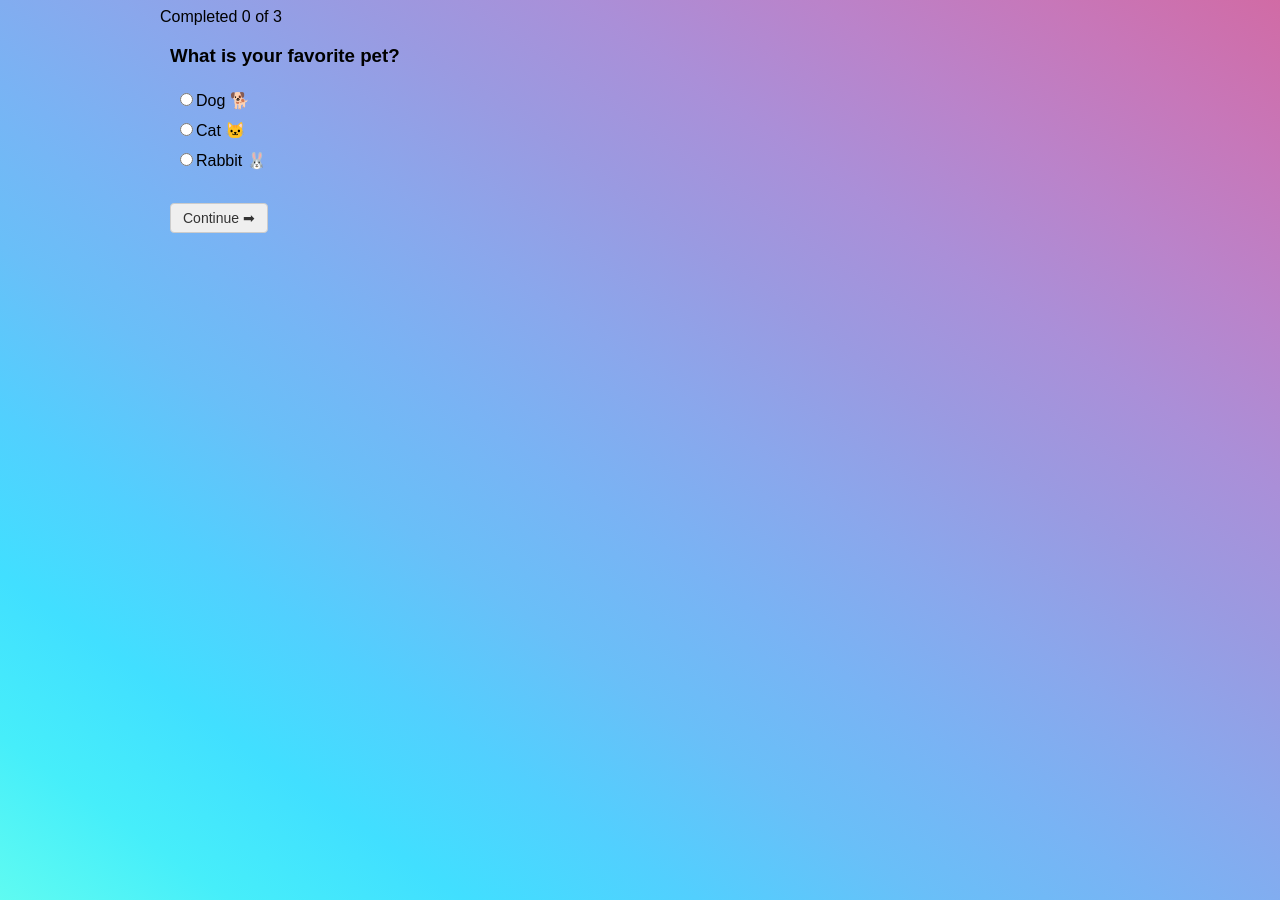
Test case: should show error text when user do not provide answer
Click the button at (219, 218), box 170,203 -> 268,233
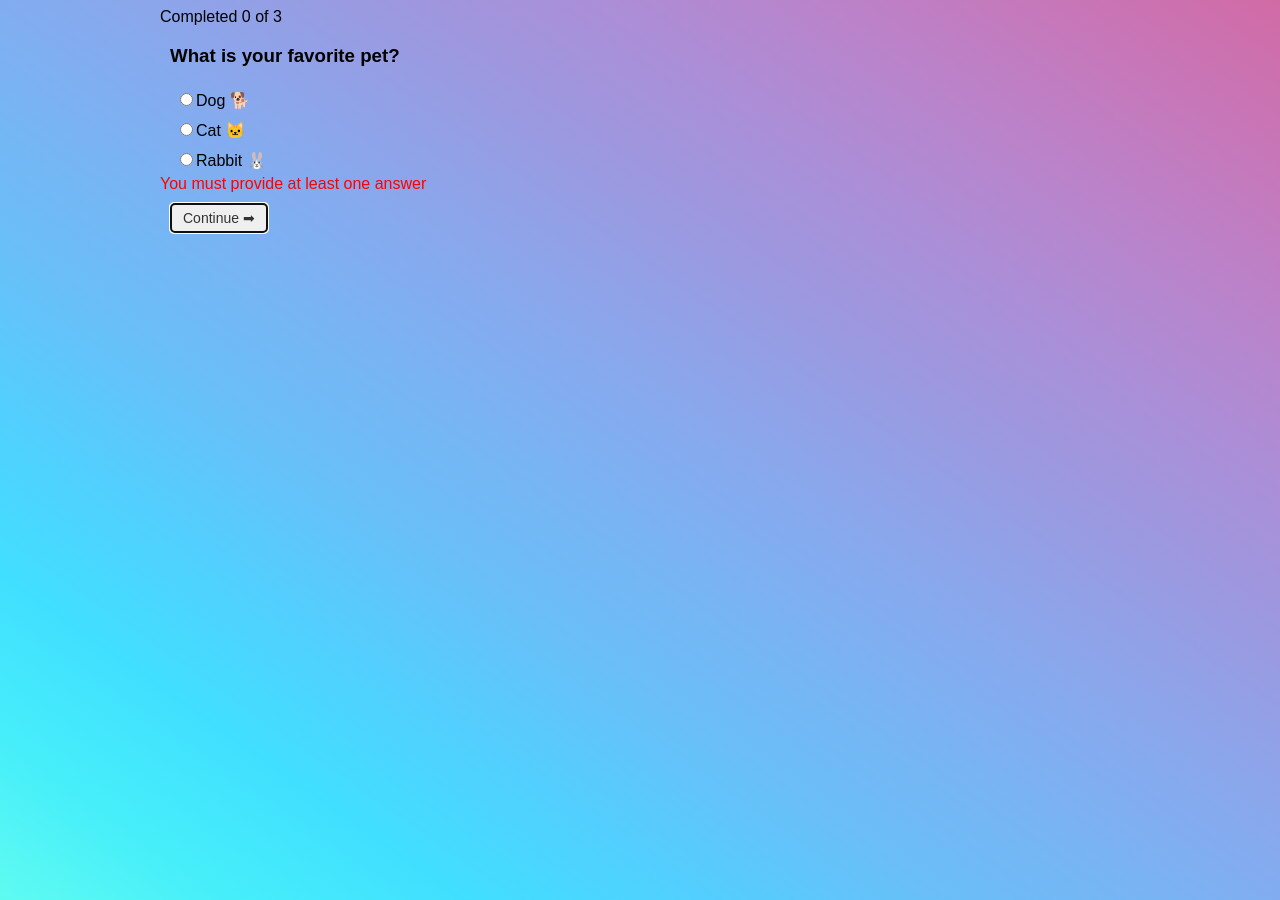
Expected: the text "Completed 0 of 3" is shown, 160,8 -> 282,25
Result: the text "You must provide at least one answer" is shown at 160,175 -> 426,192
